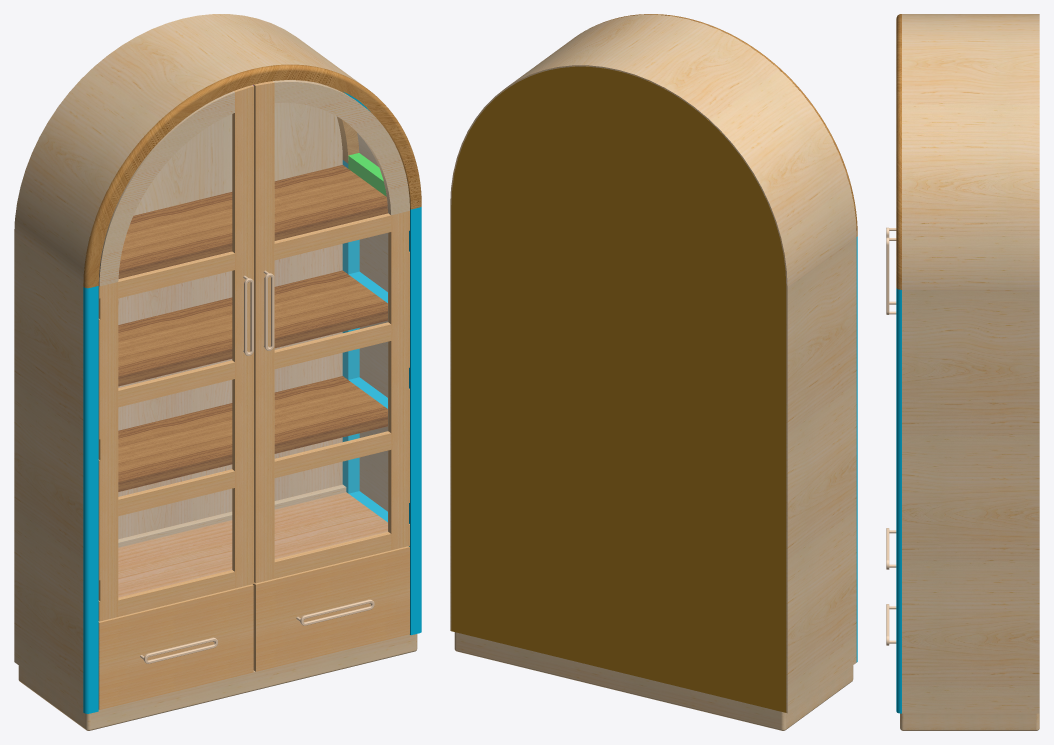
The model's file is IFD4221CAB-mwmliyh3.glb.
3 views of the same model, side by side, from view 1: azimuth 30°, elevation 25°; view 2: azimuth 150°, elevation 25°; view 3: azimuth 270°, elevation 25° (orthographic).
Parts seen in each view (by area): view 1: IFD4221CAB- VIDRIO PUERTA-1 (×2), IFD4221CAB-CUBIERTA-3, 4221CAB-VISTA DE CAJON-1 (×2), IFD4221CAB-TABLERO DE COSTADO INF-2, IFD4221CAB- POSTE PUERTA-1 (×2), IFD4221CAB- RESPALDO-2/IFD4221CAB - PARCHE RESPALDO INFERIOR, IFD4221CAB- POSTE PUERTA CHICO-1 (×2), IFD4221CAB - PISO-1, IFD4221CAB- ENTREPAÑO-6/IFD4221CAB - ENTREPAÑO-1, IFD4221CAB- ENTREPAÑO-5/IFD4221CAB - ENTREPAÑO-1, IFD4221CAB- ENTREPAÑO-4/IFD4221CAB - ENTREPAÑO-1, IFD4221CAB- RESPALDO-2/IFD4221CAB - PARCHE RESPALDO SUPERIOR (+21 smaller); view 2: IFD4221CAB- RESPALDO-2/IFD4221CAB - RESPALDO INFERIOR-1, IFD4221CAB- RESPALDO-2/IFD4221CAB - RESPALDO SUPERIOR-1, IFD4221CAB-CUBIERTA-3, IFD4221CAB-TABLERO DE COSTADO INF-2, IFD4221CAB-ARMADOR BASE FRONTAL-4, IFD4221CAB-CUBIERTA-2, IFD4221CAB-ARMADOR BASE LATERAL-5, IFD4221CAB-ENSAMBLE COSTADO-4/IFD4221CAB-POSTE FRONTAL-3; view 3: IFD4221CAB-CUBIERTA-2, IFD4221CAB-TABLERO DE COSTADO INF-1, IFD4221CAB-ENSAMBLE COSTADO-1/IFD4221CAB-POSTE FRONTAL-3, IFD4221CAB-CUBIERTA-3, IFD4221CAB-ARMADOR BASE LATERAL-6, 4221CAB-ENSAMBLE DE PARCHES-2/IFD4221CAB-FRENTE CURVA-1, 4221CAB-ENSAMBLE DE PARCHES-2/IFD4221CAB-FRENTE CURVA-2, 4221CNS-JALADERA BALAMSLDPRT-1.
Part boxes in pixels (x1,y1,x2,y2): IFD4221CAB- VIDRIO PUERTA-1 (×2): [118, 103, 387, 596]; IFD4221CAB-CUBIERTA-3: [14, 18, 251, 401]; 4221CAB-VISTA DE CAJON-1 (×2): [98, 546, 409, 709]; IFD4221CAB-TABLERO DE COSTADO INF-2: [14, 352, 83, 711]; IFD4221CAB- POSTE PUERTA-1 (×2): [232, 81, 274, 588]; IFD4221CAB- RESPALDO-2/IFD4221CAB - PARCHE RESPALDO INFERIOR: [118, 244, 342, 539]; IFD4221CAB- POSTE PUERTA CHICO-1 (×2): [98, 211, 409, 621]; IFD4221CAB - PISO-1: [118, 492, 387, 597]; IFD4221CAB- ENTREPAÑO-6/IFD4221CAB - ENTREPAÑO-1: [118, 376, 387, 480]; IFD4221CAB- ENTREPAÑO-5/IFD4221CAB - ENTREPAÑO-1: [118, 270, 387, 374]; IFD4221CAB- ENTREPAÑO-4/IFD4221CAB - ENTREPAÑO-1: [119, 165, 387, 268]; IFD4221CAB- RESPALDO-2/IFD4221CAB - PARCHE RESPALDO SUPERIOR: [133, 83, 342, 215]; IFD4221CAB- RESPALDO-2/IFD4221CAB - RESPALDO INFERIOR-1: [451, 230, 786, 712]; IFD4221CAB- RESPALDO-2/IFD4221CAB - RESPALDO SUPERIOR-1: [451, 66, 786, 311]; IFD4221CAB-CUBIERTA-3: [619, 19, 856, 402]; IFD4221CAB-TABLERO DE COSTADO INF-2: [786, 353, 856, 713]; IFD4221CAB-ARMADOR BASE FRONTAL-4: [454, 632, 783, 730]; IFD4221CAB-CUBIERTA-2: [450, 14, 687, 320]; IFD4221CAB-ARMADOR BASE LATERAL-5: [784, 665, 853, 730]; IFD4221CAB-ENSAMBLE COSTADO-4/IFD4221CAB-POSTE FRONTAL-3: [856, 236, 857, 662]; IFD4221CAB-CUBIERTA-2: [902, 32, 1039, 404]; IFD4221CAB-TABLERO DE COSTADO INF-1: [902, 404, 1039, 713]; IFD4221CAB-ENSAMBLE COSTADO-1/IFD4221CAB-POSTE FRONTAL-3: [896, 288, 901, 713]; IFD4221CAB-CUBIERTA-3: [902, 14, 1039, 31]; IFD4221CAB-ARMADOR BASE LATERAL-6: [901, 713, 1038, 730]; 4221CAB-ENSAMBLE DE PARCHES-2/IFD4221CAB-FRENTE CURVA-1: [896, 96, 901, 289]; 4221CAB-ENSAMBLE DE PARCHES-2/IFD4221CAB-FRENTE CURVA-2: [896, 14, 901, 98]; 4221CNS-JALADERA BALAMSLDPRT-1: [886, 237, 896, 314].
Size of the model in its own units: 1.07 by 1.88 by 0.4229.
Materials: 25 (10 with a texture image).
